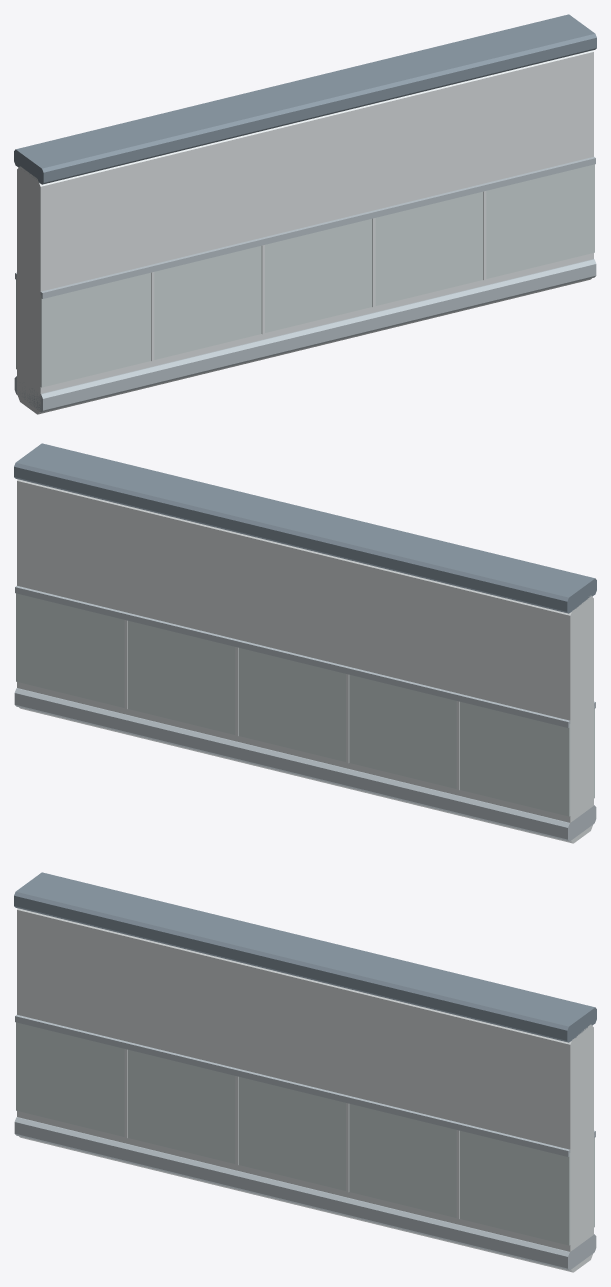
File: wall_hospital_triage.glb
3 renders of one model, top to bottom at view 1: azimuth 30°, elevation 25°; view 2: azimuth 150°, elevation 25°; view 3: azimuth 330°, elevation 25°, orthographic.
Visible parts, largest first — view 1: Part_001, Part_005, Part_002, Part_003, Part_015; view 2: Part_001, Part_004, Part_002, Part_003, Part_014; view 3: Part_001, Part_005, Part_002, Part_003, Part_015.
Boxes of the visible parts, bbox=[...] form: Part_001: bbox=[17, 50, 593, 414]; Part_005: bbox=[40, 164, 594, 387]; Part_002: bbox=[14, 14, 596, 184]; Part_003: bbox=[14, 259, 596, 412]; Part_015: bbox=[40, 157, 595, 298]; Part_001: bbox=[17, 479, 593, 843]; Part_004: bbox=[16, 593, 570, 816]; Part_002: bbox=[14, 443, 596, 613]; Part_003: bbox=[14, 688, 596, 841]; Part_014: bbox=[15, 586, 570, 727]; Part_001: bbox=[17, 908, 593, 1272]; Part_005: bbox=[16, 1022, 570, 1245]; Part_002: bbox=[14, 872, 596, 1042]; Part_003: bbox=[14, 1117, 596, 1270]; Part_015: bbox=[15, 1015, 570, 1156].
Bounding box in the file's own units: 2.7 × 1.16 × 0.25.
